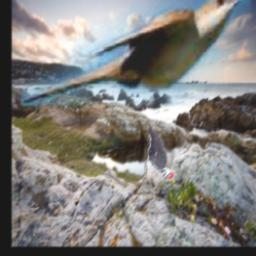Cuckoo: (21, 0, 251, 107)
Woodpecker: (144, 122, 175, 182)
